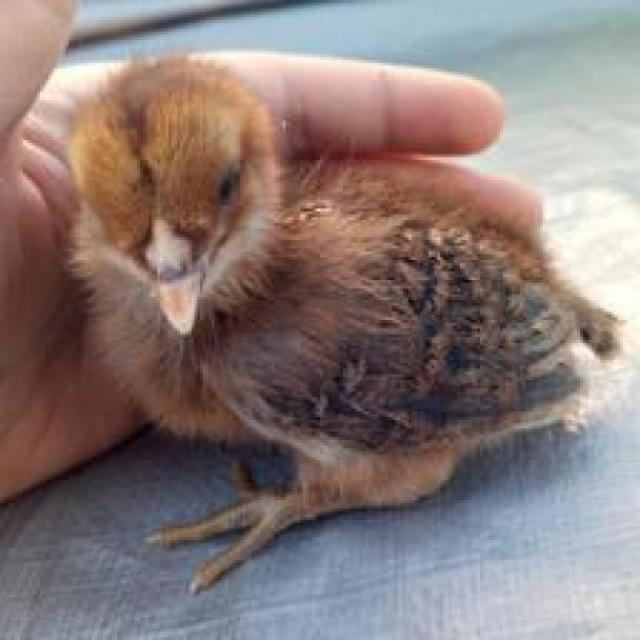Chicken: (66, 44, 613, 591)
